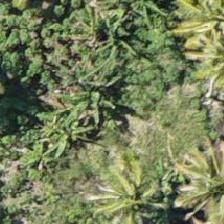coconut_tree: (173, 132, 223, 222), (164, 0, 223, 55)
